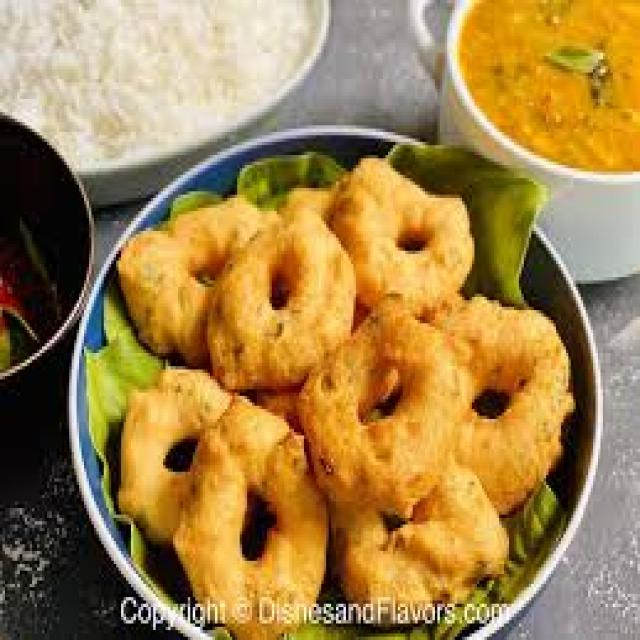MEDU VADA: (165, 406, 329, 637), (299, 310, 453, 521), (335, 464, 503, 631), (441, 303, 571, 509), (206, 212, 356, 390), (125, 198, 270, 352), (335, 175, 469, 311), (124, 377, 224, 559)
